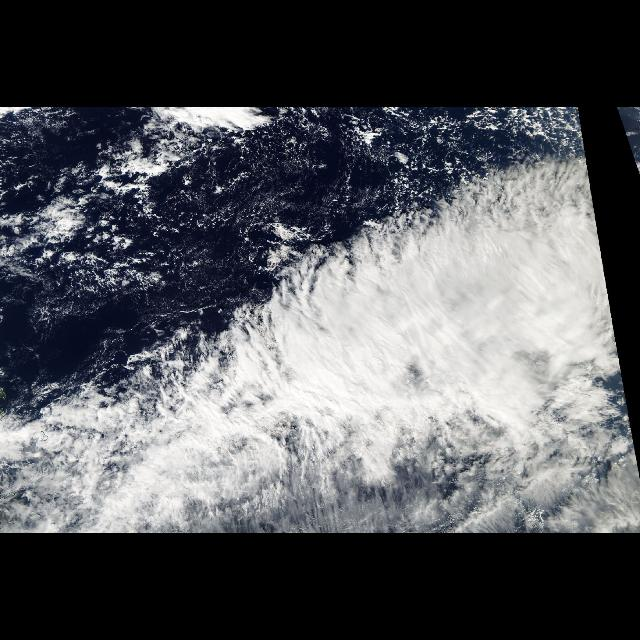Gravel: (140, 110, 442, 272)
Sugar: (196, 136, 594, 204)
